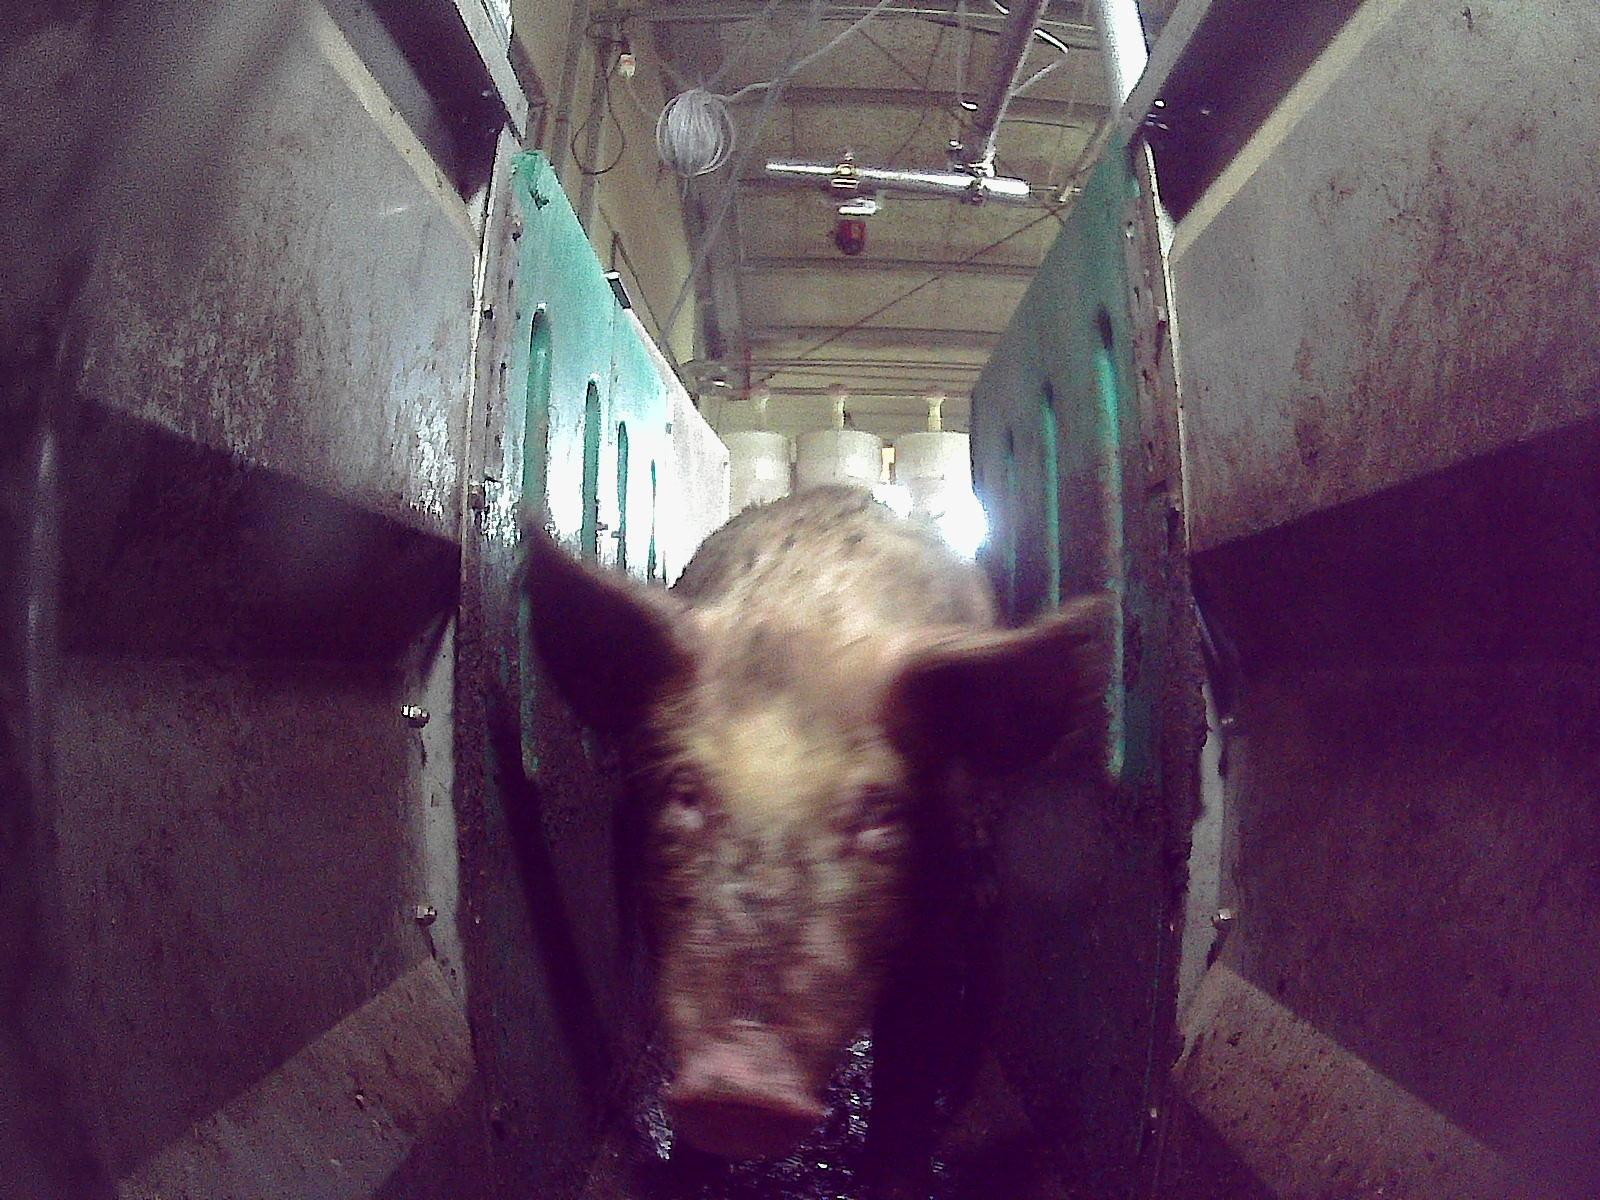Face: (633, 656, 929, 1157)
